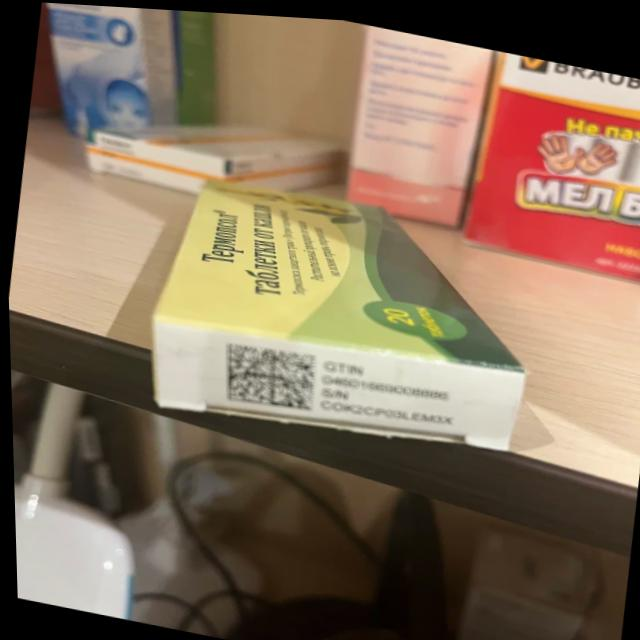datamatrix: (215, 333, 323, 417)
